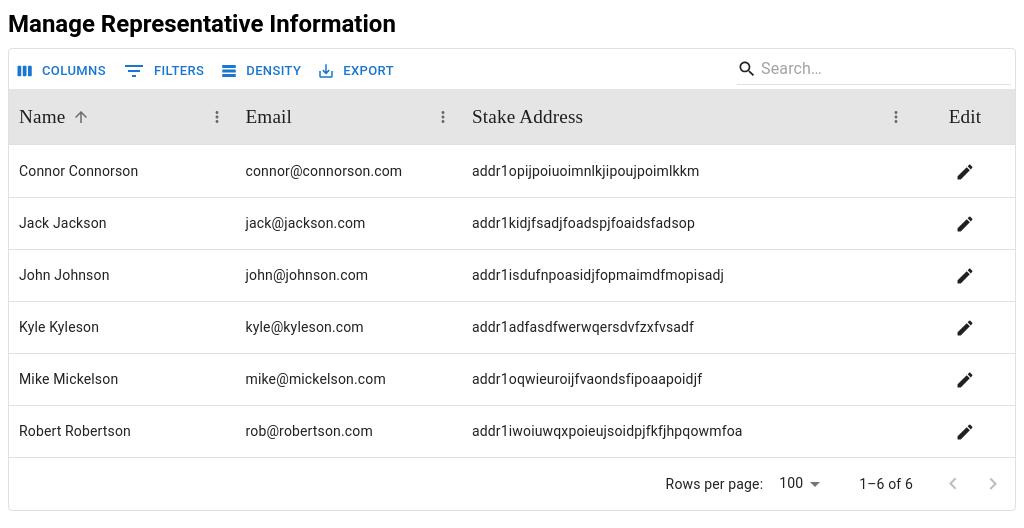
Scenario: Successfully alerts on internal error
Click the menu item with test id "edit-representative-info-1" at {"x": 965, "y": 276}, box 950,260 -> 980,290
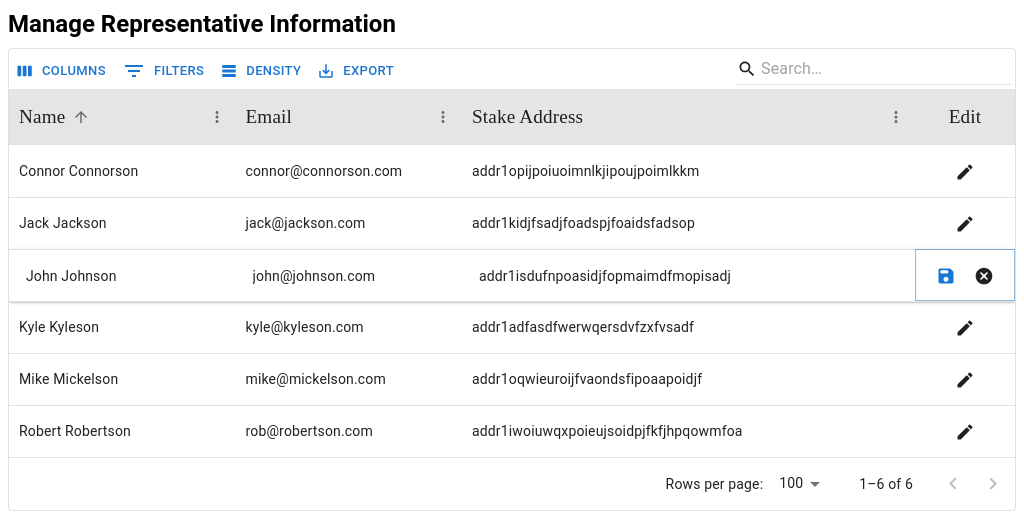
Click the menu item with test id "save-representative-info-1" at {"x": 946, "y": 276}, box 931,260 -> 961,290
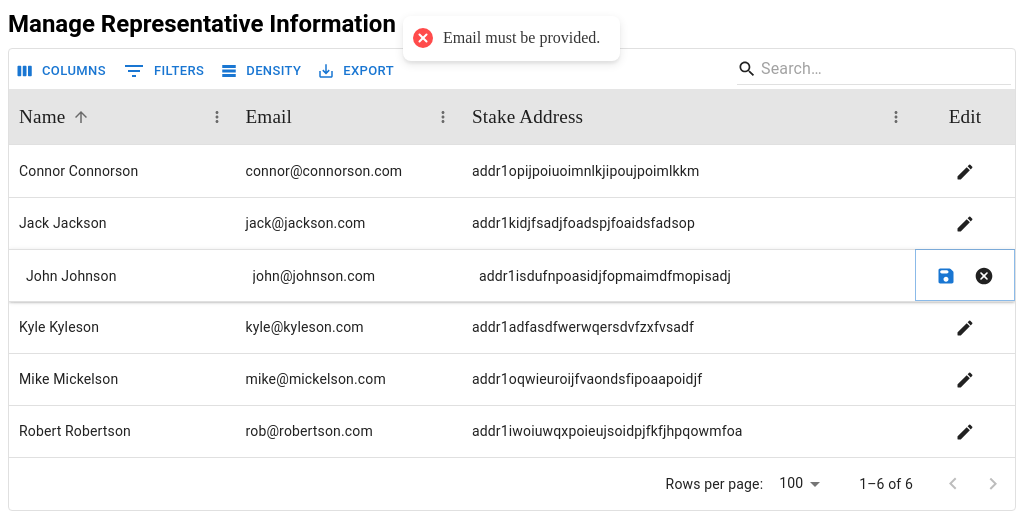
Check: the text "Email must be provided." is shown, box 443,28 -> 601,49
